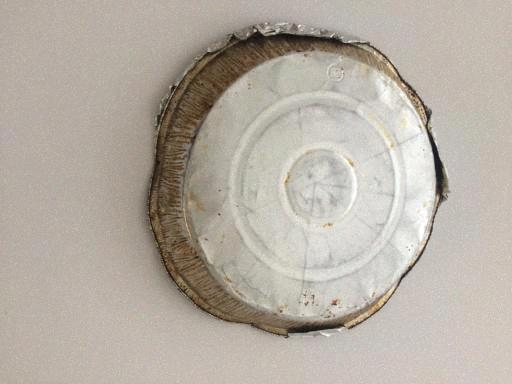metal: (148, 33, 443, 339)
trash: (148, 31, 443, 340)
